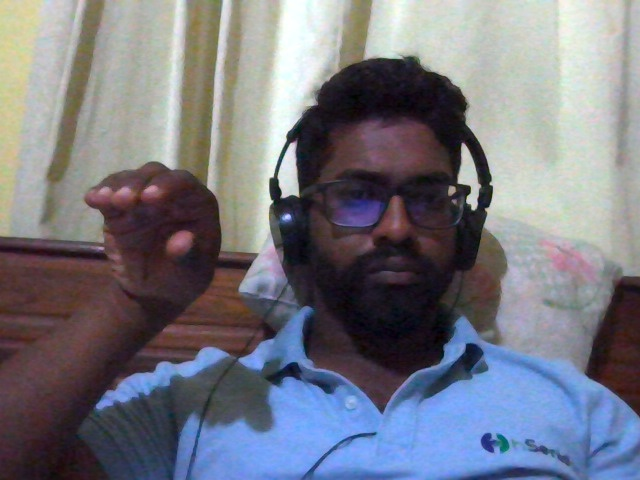No: (63, 143, 266, 327)
